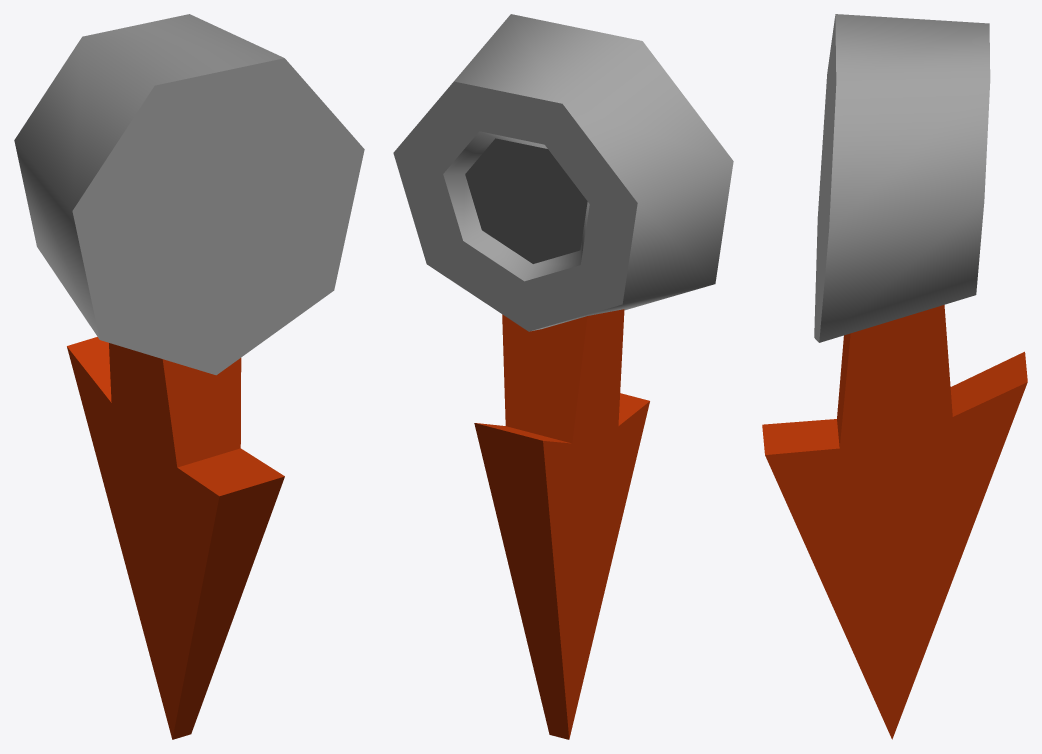
The model's file is Indicator Waypoint.fbx.
3 views of the same model, side by side, from view 1: azimuth 30°, elevation 25°; view 2: azimuth 150°, elevation 25°; view 3: azimuth 270°, elevation 25° (orthographic).
Visible parts, largest first — view 1: _MeshGizmo; view 2: _MeshGizmo; view 3: _MeshGizmo.
Part boxes in pixels (x1=…): _MeshGizmo: x1=14, y1=14, x2=364, y2=739; _MeshGizmo: x1=393, y1=14, x2=733, y2=739; _MeshGizmo: x1=762, y1=14, x2=1027, y2=739.
Bounding box in the file's own units: 1.03 × 2.29 × 0.7938.
